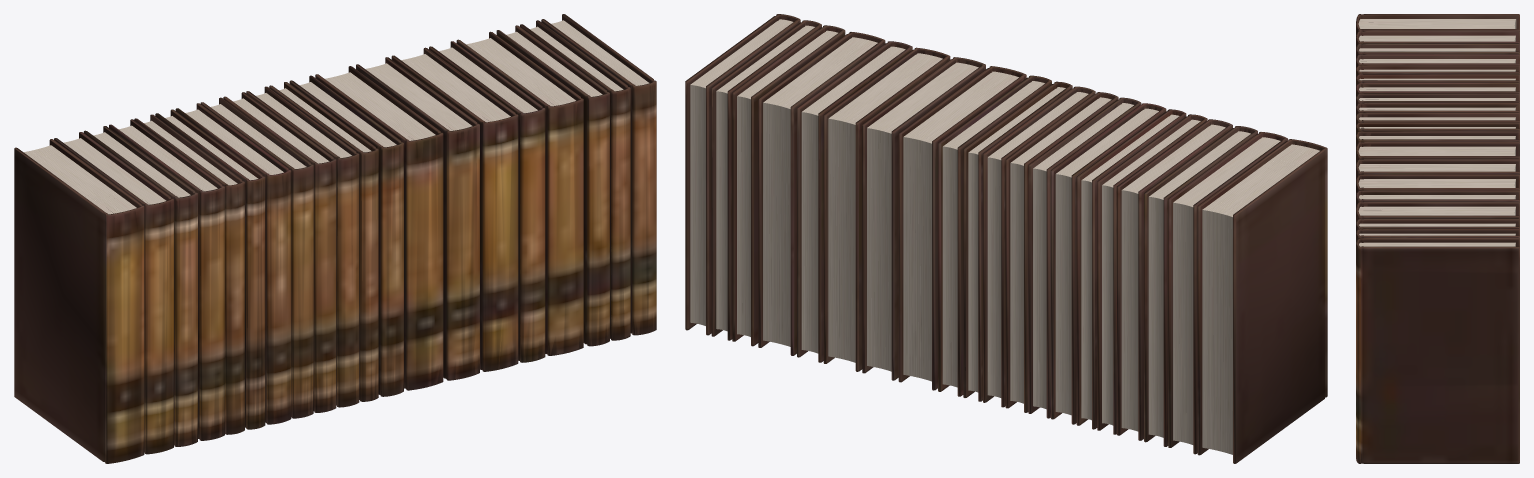
File: book_encyclopedia_set_01.glb
3 views of the same model, side by side, from view 1: azimuth 30°, elevation 25°; view 2: azimuth 150°, elevation 25°; view 3: azimuth 270°, elevation 25° (orthographic). The views are drawn at different scales.
Parts seen in each view (by area): view 1: book_encyclopedia_set_01_book01; view 2: book_encyclopedia_set_01_book01; view 3: book_encyclopedia_set_01_book01.
Boxes of the visible parts, x1,y1,x2,y2 form: book_encyclopedia_set_01_book01: (14, 14, 656, 463); book_encyclopedia_set_01_book01: (685, 14, 1327, 463); book_encyclopedia_set_01_book01: (1356, 14, 1519, 463).
Size of the model in its own units: 0.5513 by 0.2374 by 0.1631.
2 materials, 2 textured.
